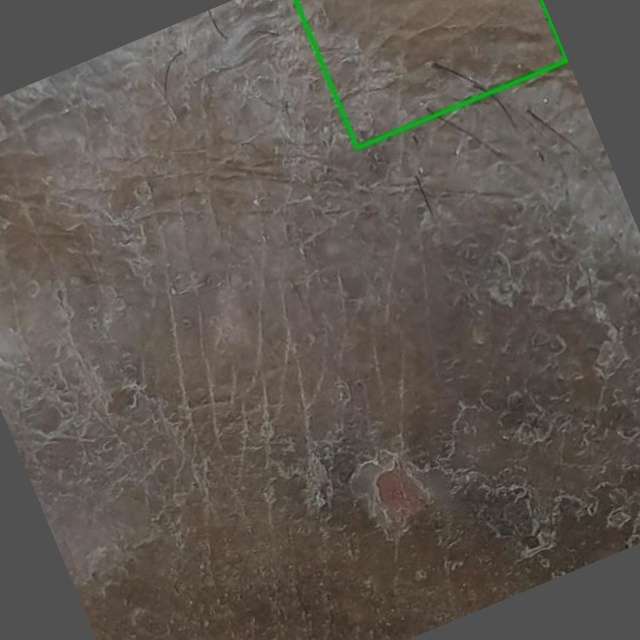Eczema: (295, 0, 567, 148)
